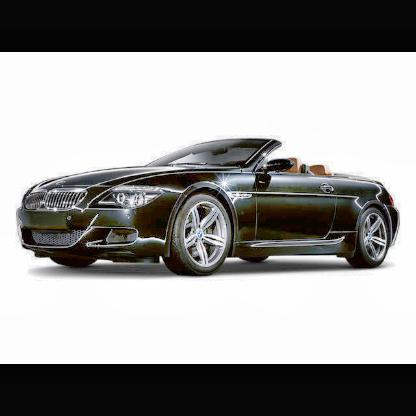BMW M6 Convertible 2010: (18, 140, 402, 279)
